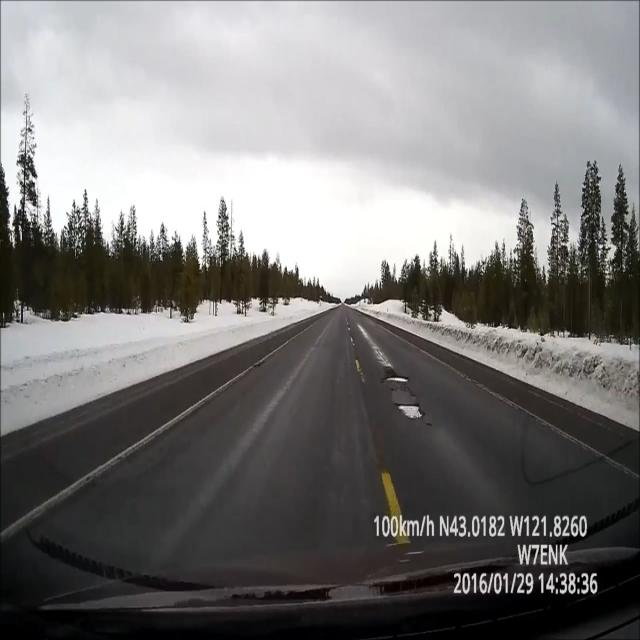Pothole: (374, 350, 432, 433)
